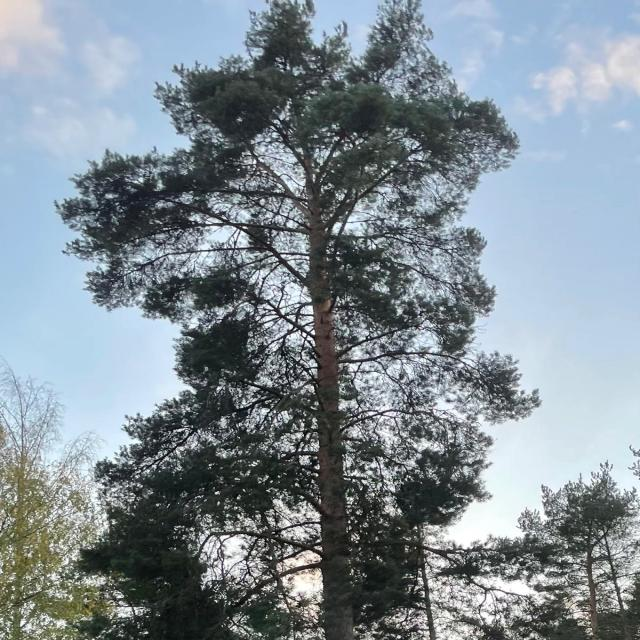pine: (53, 0, 537, 640)
